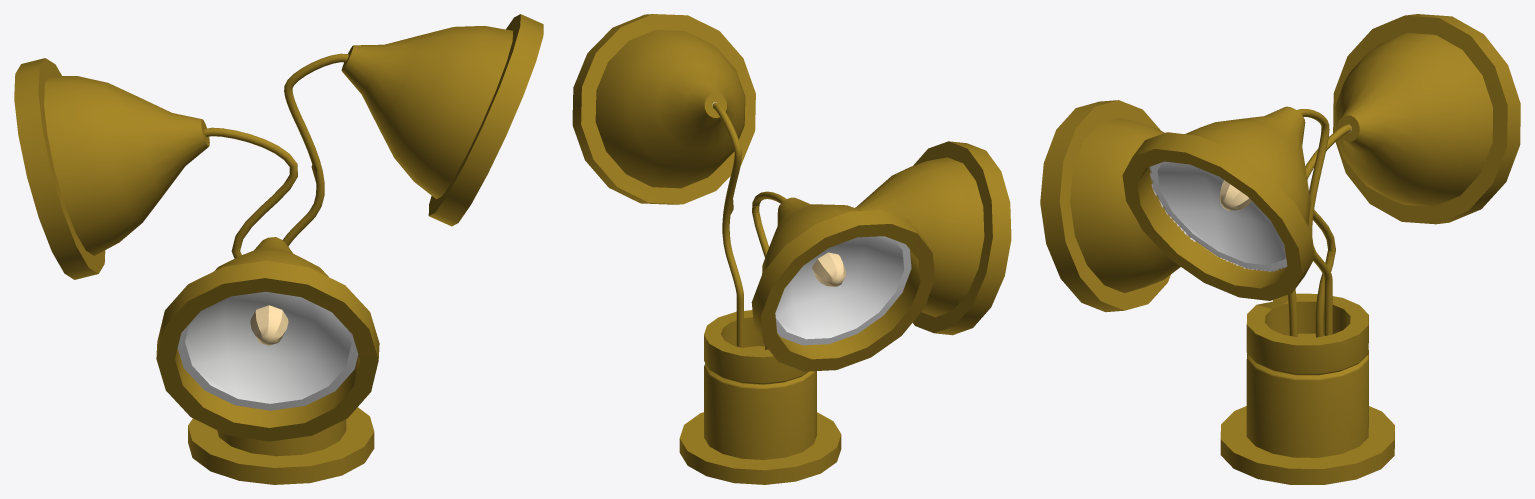
The model's file is Lampara.obj.
3 renders of one model, left to right at view 1: azimuth 30°, elevation 25°; view 2: azimuth 150°, elevation 25°; view 3: azimuth 270°, elevation 25°, orthographic. The views are drawn at different scales.
Size of the model in its own units: 1.22 by 1.07 by 1.17.
Materials: 1 (1 with a texture image).
